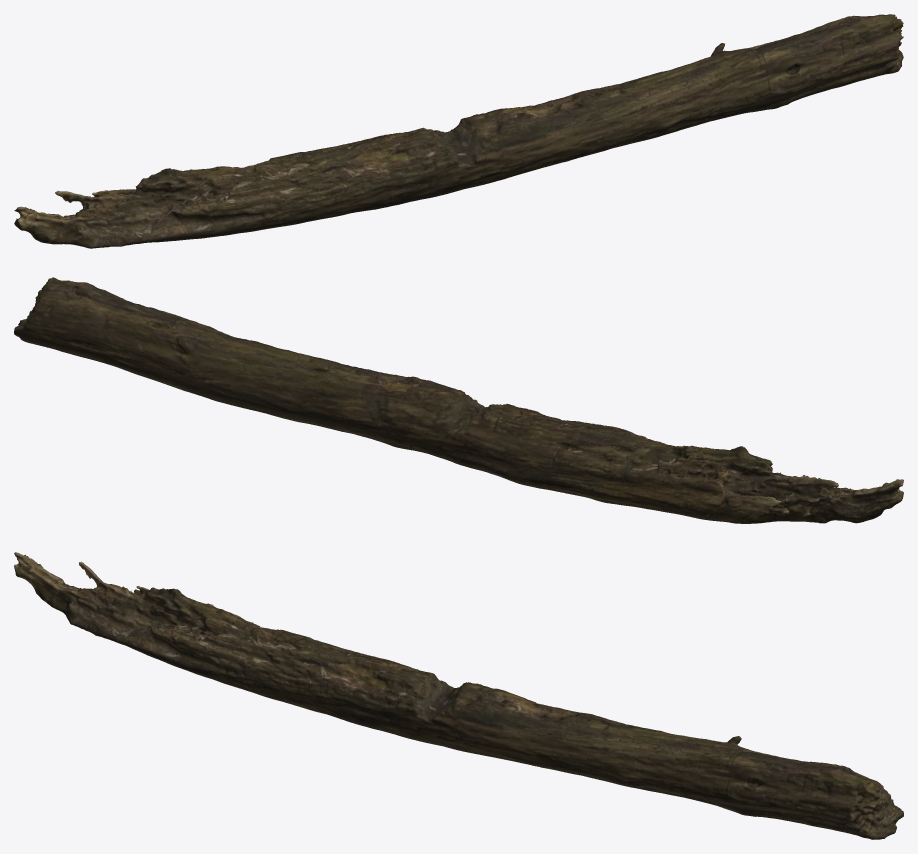
Rendered from dead_tree_trunk_1k.glb.
3 views of the same model, one above another, from view 1: azimuth 30°, elevation 25°; view 2: azimuth 150°, elevation 25°; view 3: azimuth 330°, elevation 25° (orthographic).
Visible parts, largest first — view 1: dead_tree_trunk; view 2: dead_tree_trunk; view 3: dead_tree_trunk.
Part boxes in pixels (box(x1,y1,x2,y2)): dead_tree_trunk: box(14, 14, 903, 248); dead_tree_trunk: box(14, 277, 903, 523); dead_tree_trunk: box(14, 552, 903, 839).
Bounding box in the file's own units: 3.05 × 0.2905 × 0.2775.
Materials: 1 (1 with a texture image).
